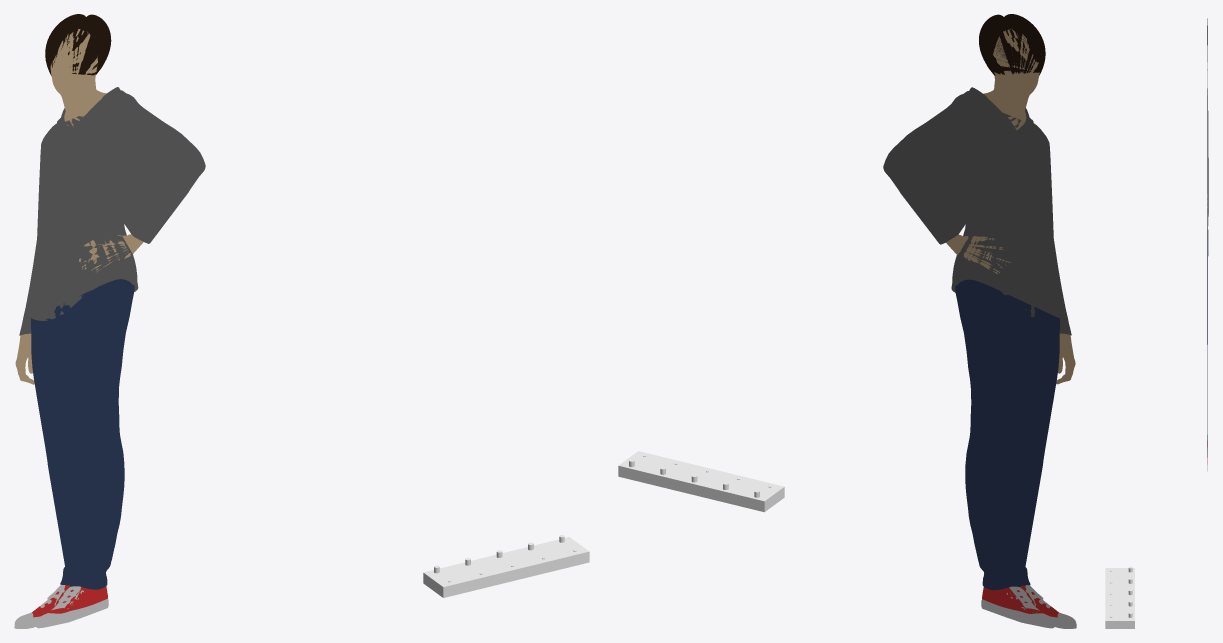
The model's file is MishkaTrol1.obj.
3 renders of one model, left to right at view 1: azimuth 30°, elevation 25°; view 2: azimuth 150°, elevation 25°; view 3: azimuth 270°, elevation 25°, orthographic. The views are drawn at different scales.
Parts seen in each view (by area): view 1: Mesh1 Stacy1 Model, Mesh2 Model; view 2: Mesh1 Stacy1 Model, Mesh2 Model; view 3: Mesh2 Model, Mesh1 Stacy1 Model.
Part boxes in pixels (<box>): Mesh1 Stacy1 Model: <box>14,14,205,628</box>; Mesh2 Model: <box>423,535,589,597</box>; Mesh1 Stacy1 Model: <box>883,14,1076,628</box>; Mesh2 Model: <box>618,451,784,512</box>; Mesh2 Model: <box>1105,566,1134,628</box>; Mesh1 Stacy1 Model: <box>1207,18,1208,471</box>.
Bounding box in the file's own units: 1456 × 1665 × 346.
